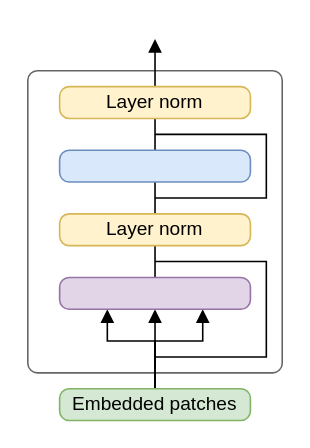
The diagram is 310 pixels wide and 448 high, and some of its shapes have lost their labels. The shapes that lost their labels are listed below. From the top down, each one's centre as x and y in pixels, then its label:
(154,165): MLP
(154,292): MSA
